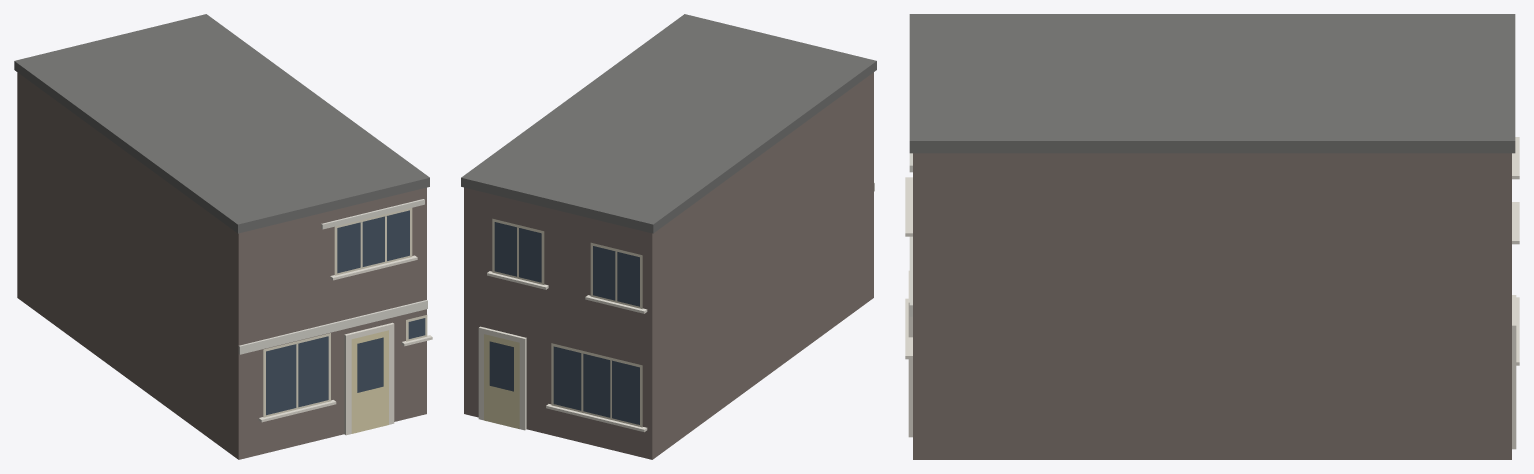
File: zo-rb-flat-band__brown__2__flat__long__solid.glb
3 renders of one model, left to right at view 1: azimuth 30°, elevation 25°; view 2: azimuth 150°, elevation 25°; view 3: azimuth 270°, elevation 25°, orthographic. The views are drawn at different scales.
Parts seen in each view (by area): view 1: zo-rb-flat-band__brown__2__flat__long__solid; view 2: zo-rb-flat-band__brown__2__flat__long__solid; view 3: zo-rb-flat-band__brown__2__flat__long__solid.
Part boxes in pixels (box(x1,y1,x2,y2)): zo-rb-flat-band__brown__2__flat__long__solid: box(14, 14, 432, 459); zo-rb-flat-band__brown__2__flat__long__solid: box(461, 14, 876, 459); zo-rb-flat-band__brown__2__flat__long__solid: box(905, 14, 1519, 459).
Size of the model in its own units: 4.91 by 5.75 by 9.98.
